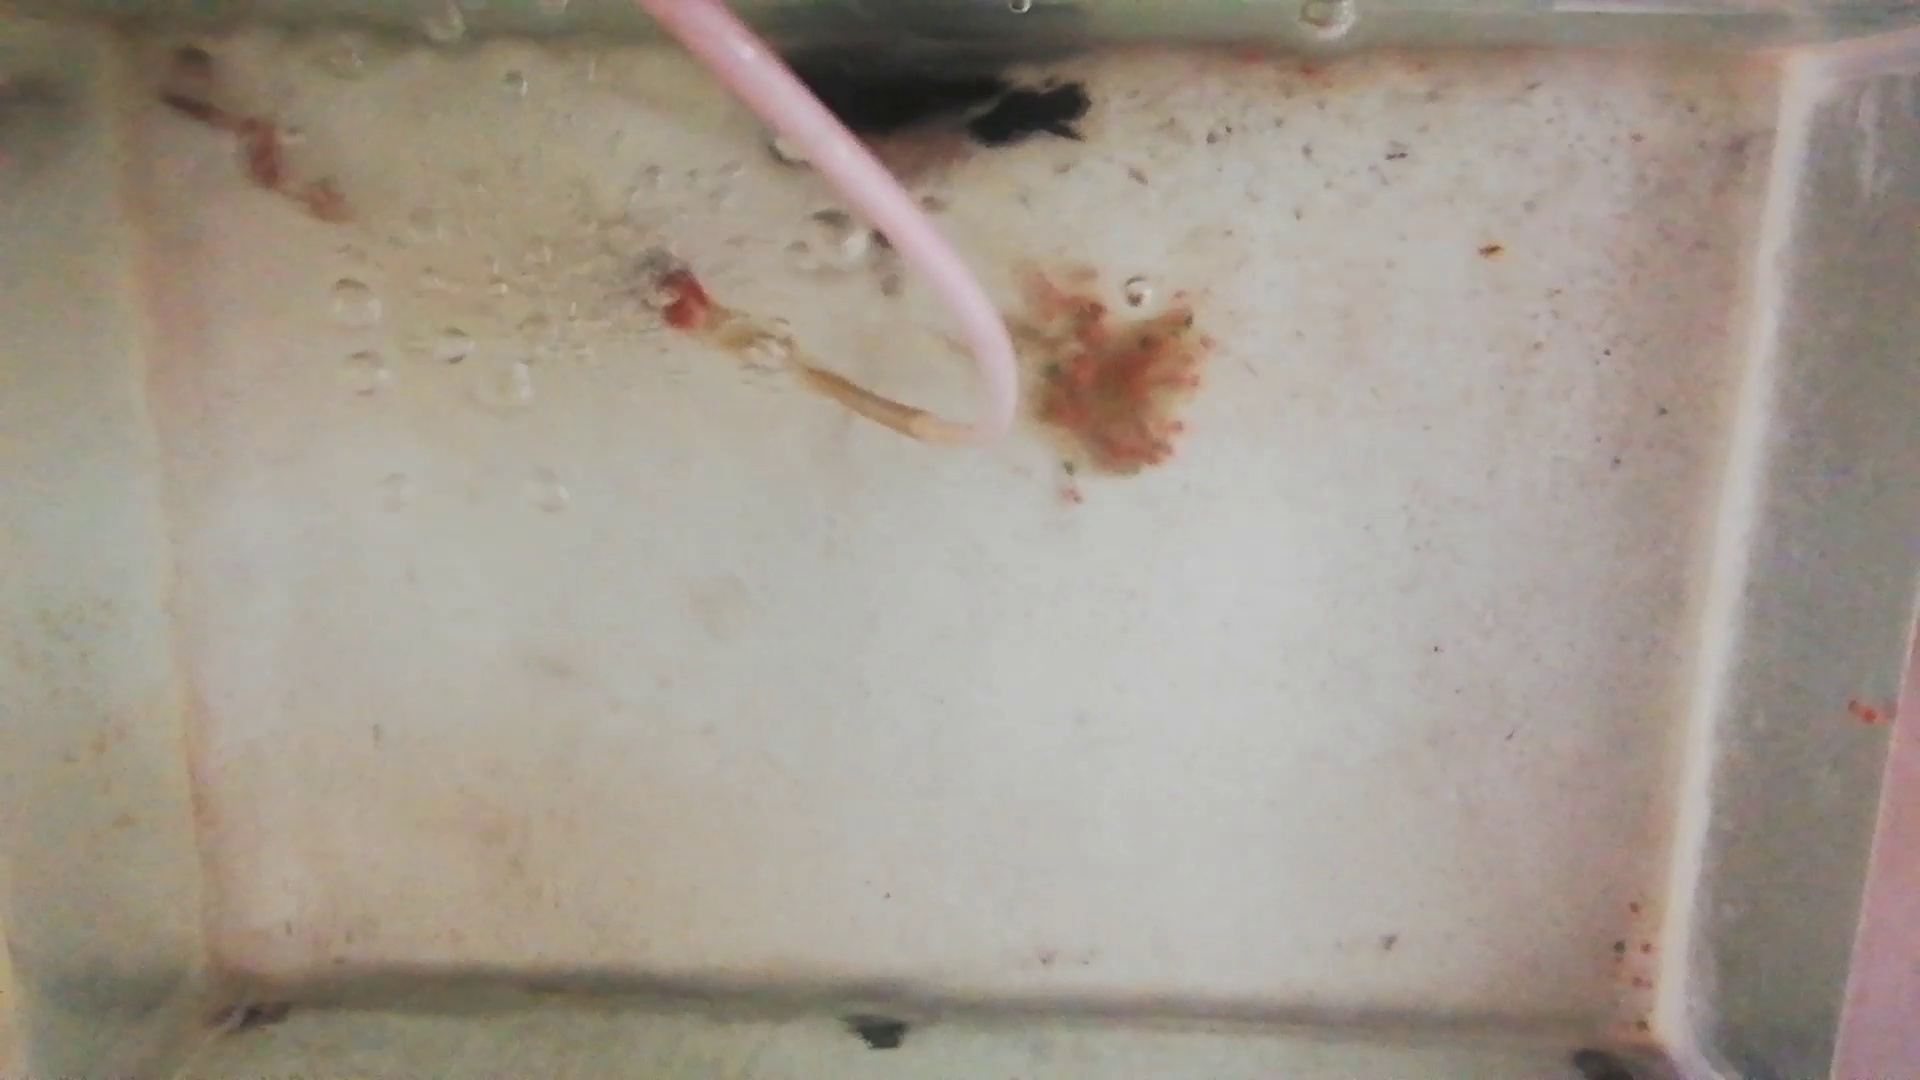fish: (161, 65, 344, 212), (861, 128, 980, 175)
